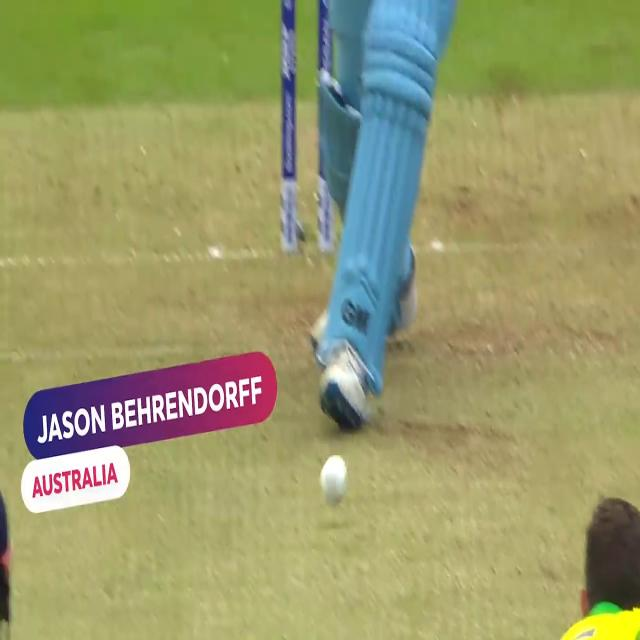ball: (317, 449, 351, 507)
